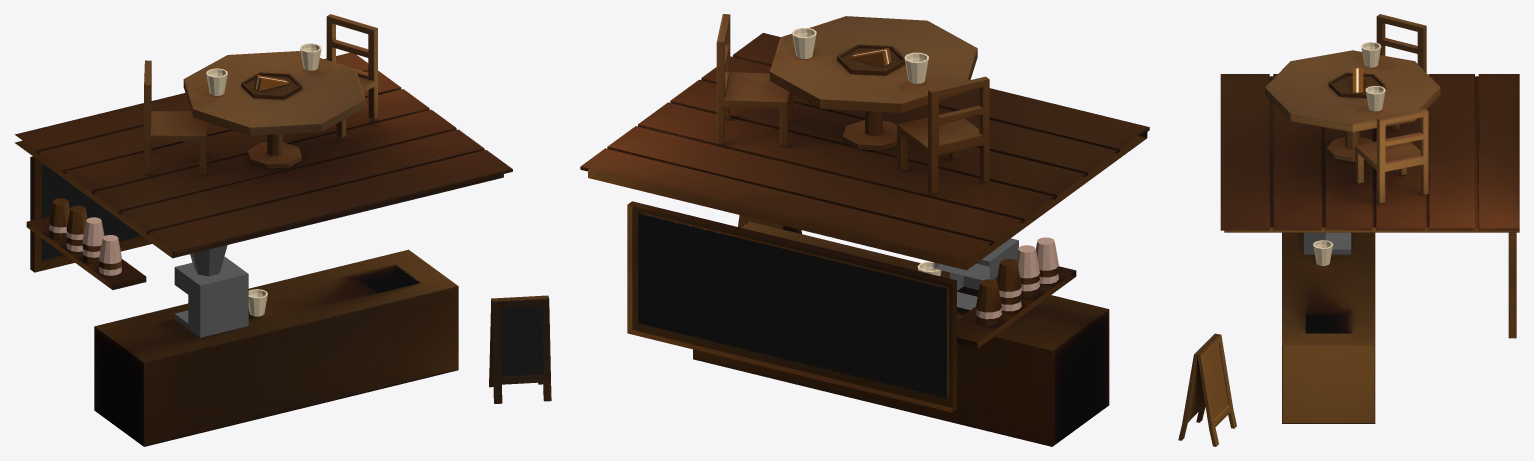
The model's file is firstModel.gltf.
3 renders of one model, left to right at view 1: azimuth 30°, elevation 25°; view 2: azimuth 150°, elevation 25°; view 3: azimuth 270°, elevation 25°, orthographic. The views are drawn at different scales.
Parts seen in each view (by area): view 1: group1; view 2: group1; view 3: group1.
Boxes of the visible parts, x1,y1,x2,y2 form: group1: (15, 14, 551, 446); group1: (580, 14, 1149, 446); group1: (1178, 14, 1519, 446).
Size of the model in its own units: 3.83 by 3.08 by 3.29.
7 materials, 2 textured.
